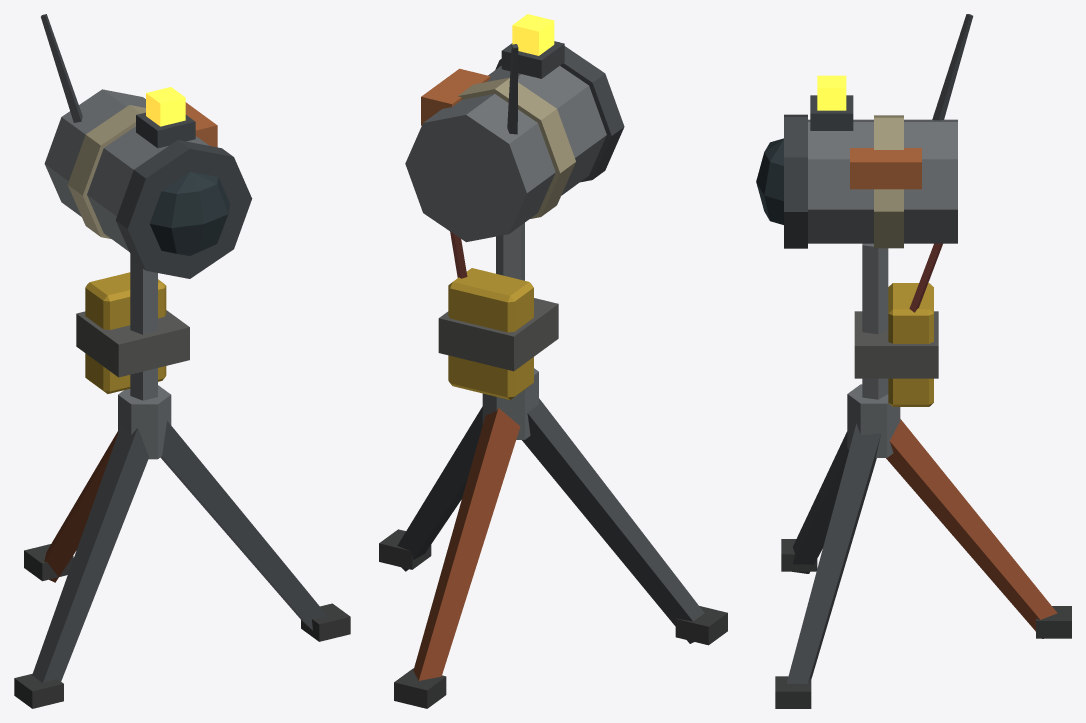
Rendered from item_motion_sensor.glb.
The picture shows the model from 3 angles, left to right: view 1: azimuth 30°, elevation 25°; view 2: azimuth 150°, elevation 25°; view 3: azimuth 270°, elevation 25°; orthographic projection. The views are drawn at different scales.
Parts seen in each view (by area): view 1: motion_sensor; view 2: motion_sensor; view 3: motion_sensor.
Boxes of the visible parts, x1=… form: motion_sensor: x1=14, y1=14, x2=350, y2=708; motion_sensor: x1=379, y1=14, x2=727, y2=708; motion_sensor: x1=756, y1=14, x2=1071, y2=708.
Bounding box in the file's own units: 0.3007 × 0.553 × 0.263.
